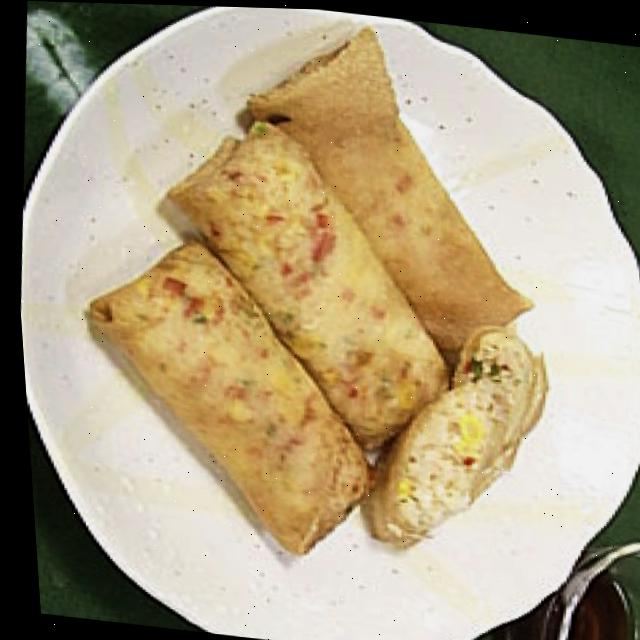鸡蛋料理: (52, 18, 590, 592)
